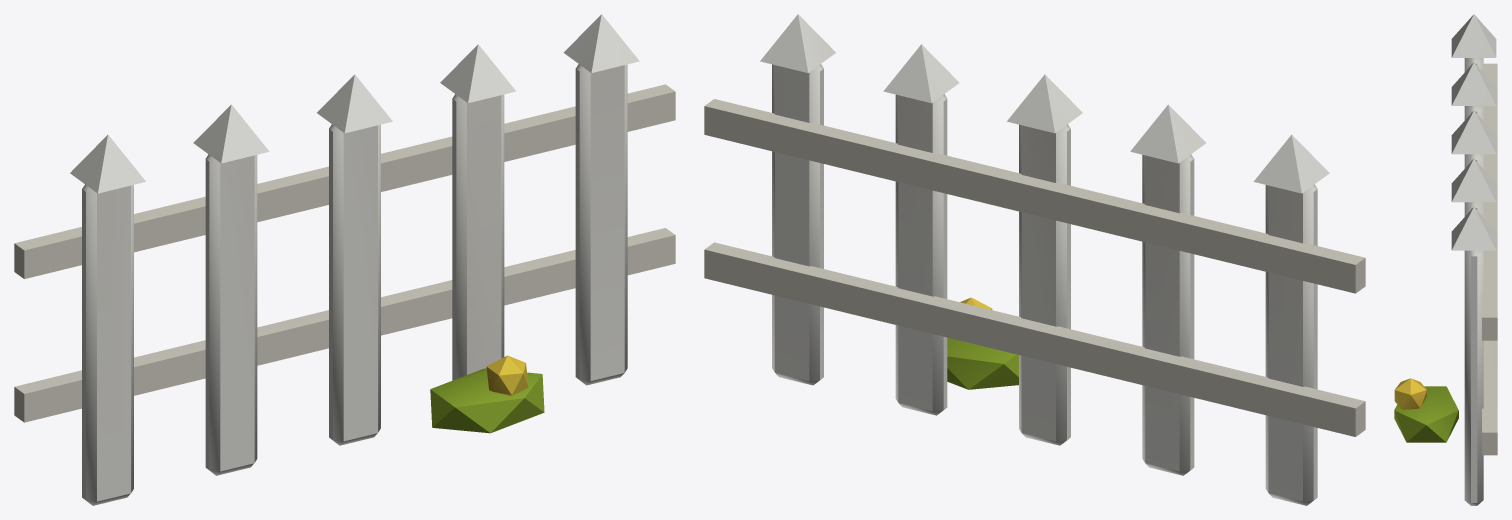
Rendered from b_gartenzaun.glb.
3 views of the same model, side by side, from view 1: azimuth 30°, elevation 25°; view 2: azimuth 150°, elevation 25°; view 3: azimuth 270°, elevation 25° (orthographic). The views are drawn at different scales.
Visible parts, largest first — view 1: body; view 2: body; view 3: body.
Part boxes in pixels (box(x1,y1,x2,y2)): body: box(14, 14, 675, 505); body: box(704, 14, 1365, 505); body: box(1394, 14, 1497, 505).
Size of the model in its own units: 1.9 by 1.02 by 0.3271.
